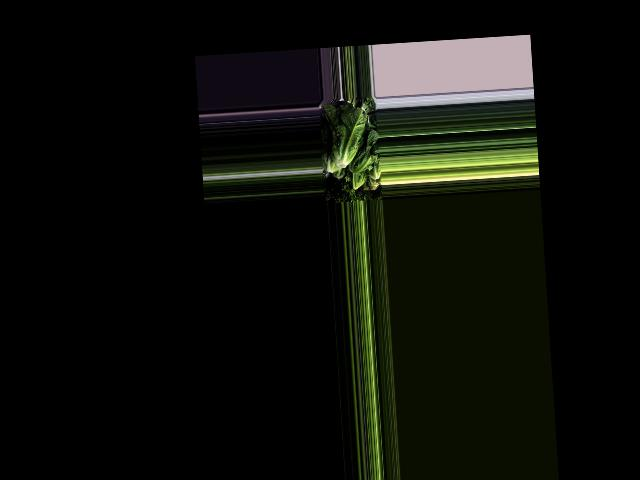lettuce: (347, 127, 378, 175)
